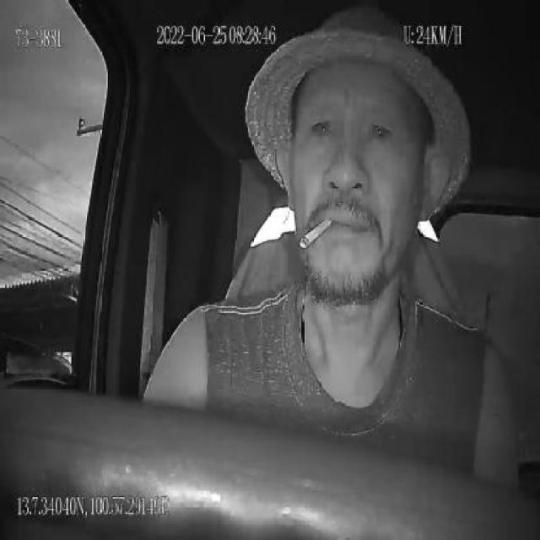smoking: (298, 214, 334, 253)
